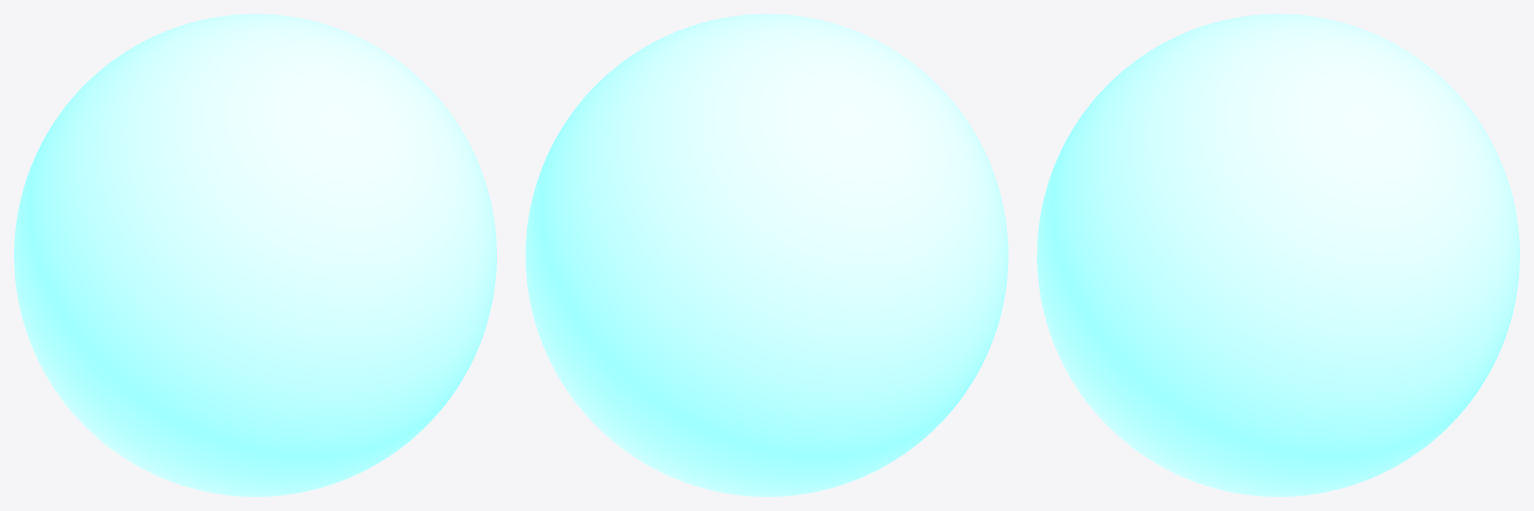
Rendered from Earth.glb.
3 renders of one model, left to right at view 1: azimuth 30°, elevation 25°; view 2: azimuth 150°, elevation 25°; view 3: azimuth 270°, elevation 25°, orthographic.
Visible parts, largest first — view 1: earth; view 2: earth; view 3: earth.
Boxes of the visible parts, box(x1,y1,x2,y2) form: earth: box(14, 14, 496, 496); earth: box(525, 14, 1008, 496); earth: box(1037, 14, 1519, 496).
Size of the model in its own units: 2.04 by 2.04 by 2.04.
